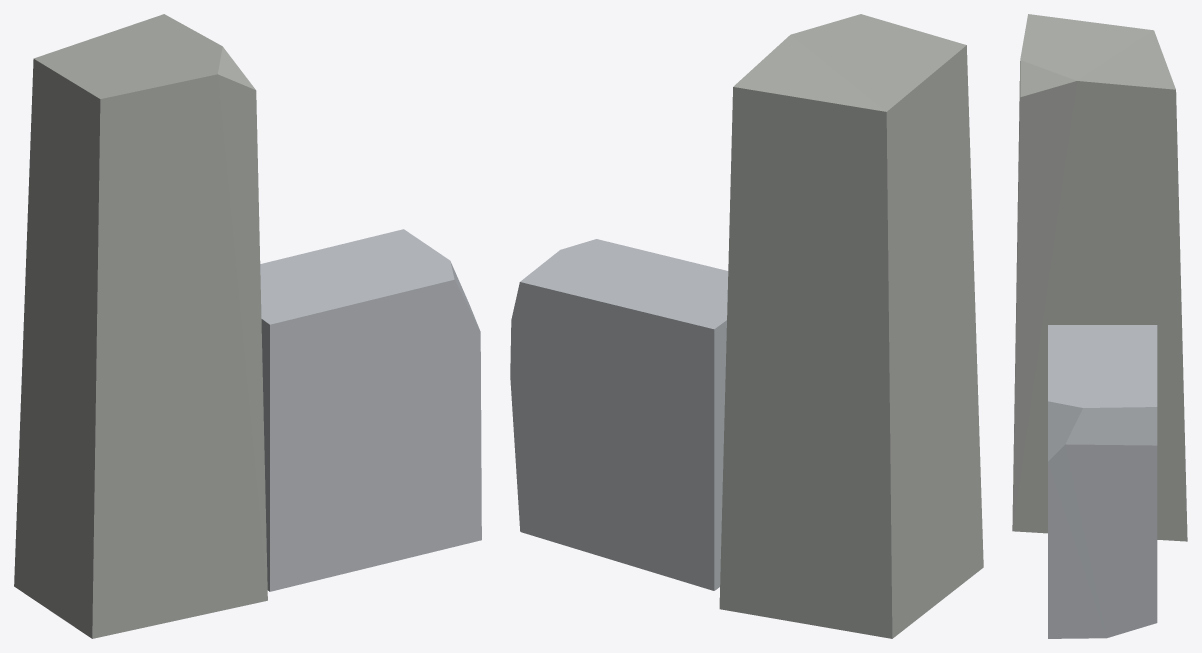
The model's file is Rocks_Square_l_04.fbx.
3 views of the same model, side by side, from view 1: azimuth 30°, elevation 25°; view 2: azimuth 150°, elevation 25°; view 3: azimuth 270°, elevation 25° (orthographic). The views are drawn at different scales.
Visible parts, largest first — view 1: Rocks_Square_l_04; view 2: Rocks_Square_l_04; view 3: Rocks_Square_l_04.
Part boxes in pixels (box(x1,y1,x2,y2)): Rocks_Square_l_04: box(14, 14, 481, 638); Rocks_Square_l_04: box(510, 14, 983, 638); Rocks_Square_l_04: box(1012, 14, 1187, 638).
Bounding box in the file's own units: 1.92 × 2.47 × 0.8464.
